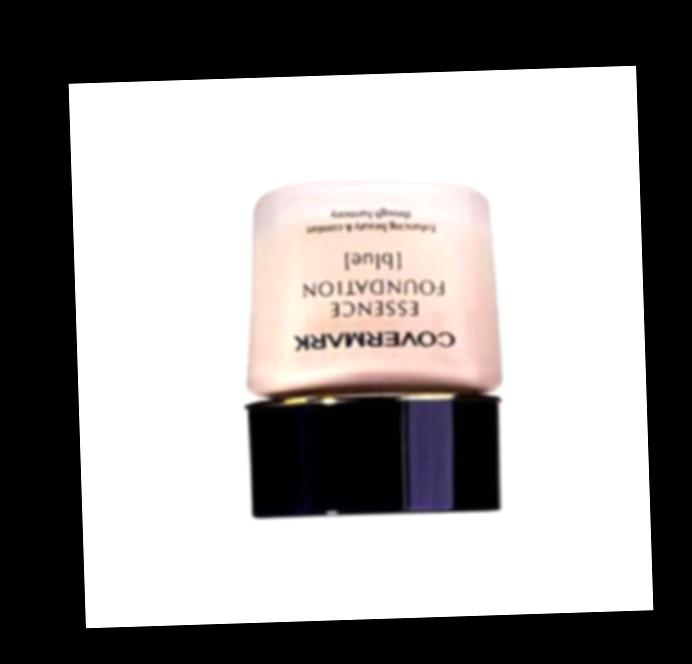cosmetic: (236, 180, 508, 518)
